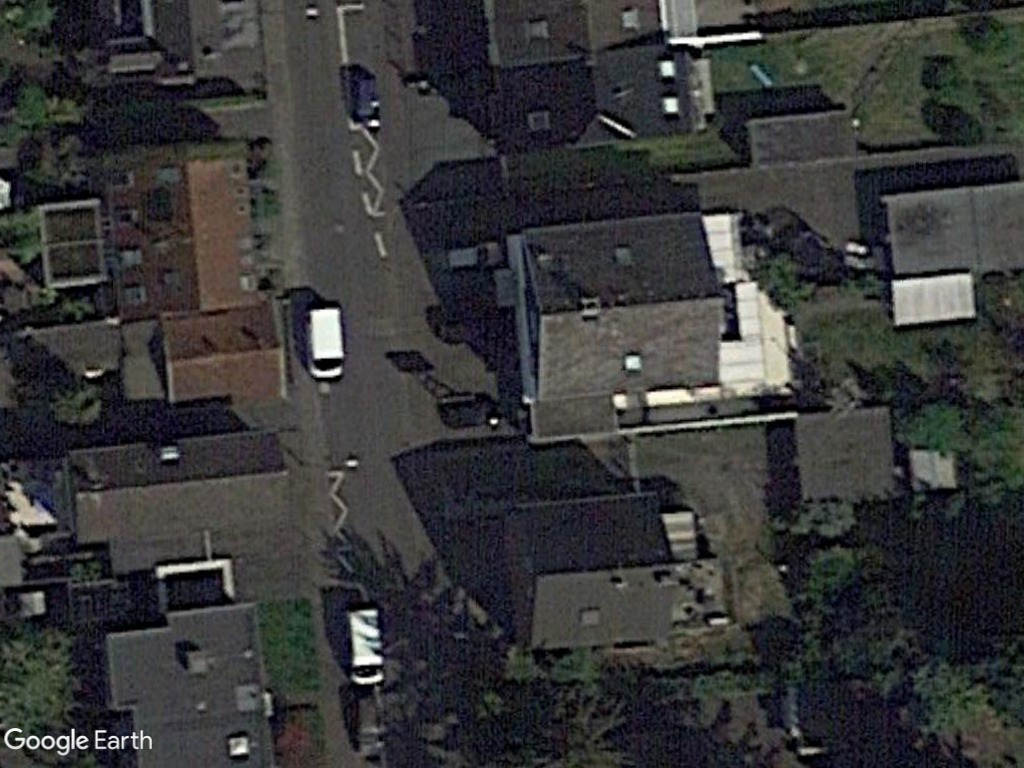van: (337, 597, 391, 690), (299, 294, 350, 386)
